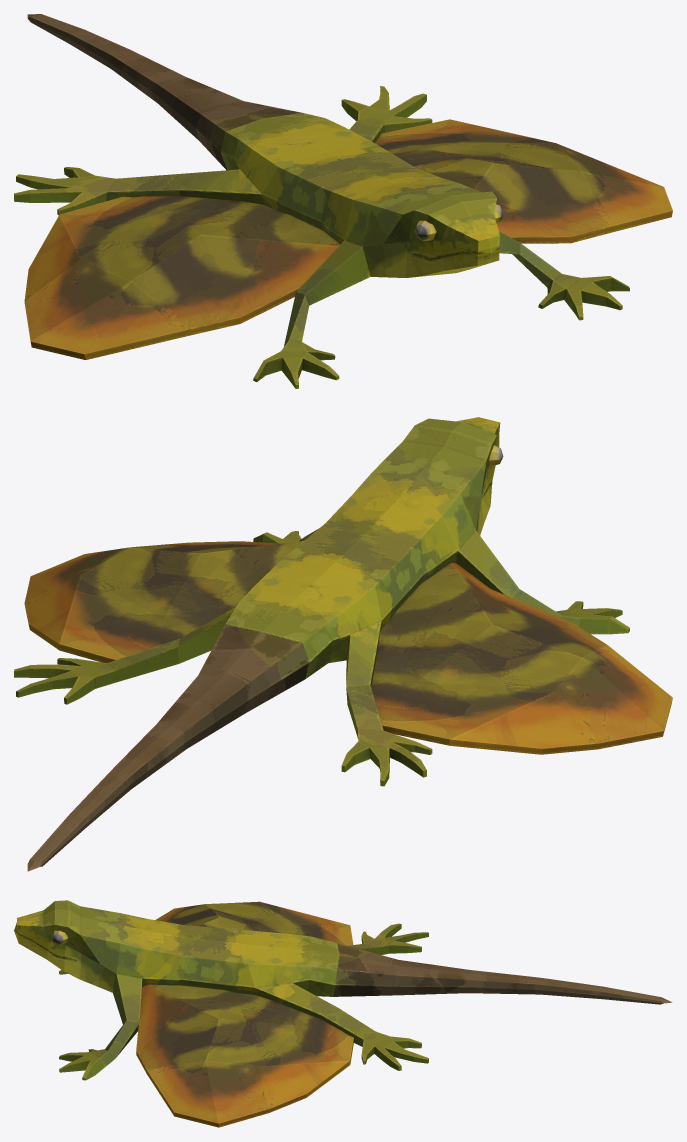
Rendered from MindanaoFlyingDragon.fbx.
3 renders of one model, top to bottom at view 1: azimuth 30°, elevation 25°; view 2: azimuth 150°, elevation 25°; view 3: azimuth 270°, elevation 25°, orthographic. The views are drawn at different scales.
Visible parts, largest first — view 1: MindanaoFlyingDragon; view 2: MindanaoFlyingDragon; view 3: MindanaoFlyingDragon.
Part boxes in pixels (<box>): MindanaoFlyingDragon: <box>14,14,672,388</box>; MindanaoFlyingDragon: <box>14,417,672,871</box>; MindanaoFlyingDragon: <box>14,900,672,1127</box>.
Bounding box in the file's own units: 144 × 33.35 × 183.
